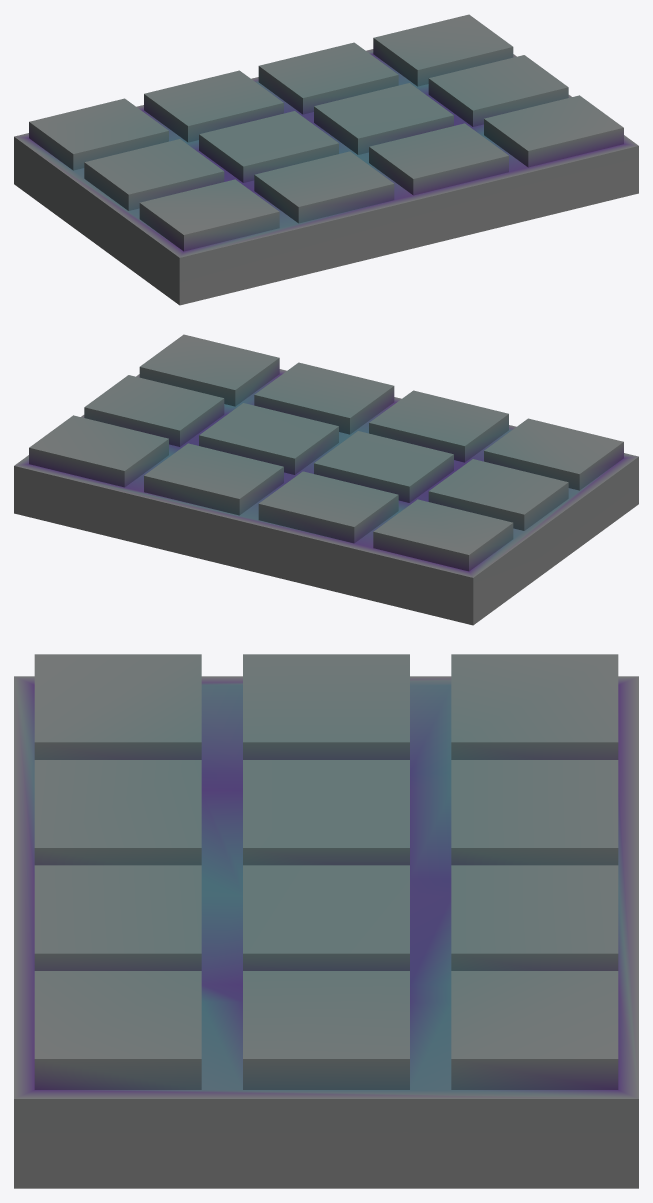
Rendered from simready-food_processed_chocolate_i01.glb.
3 views of the same model, one above another, from view 1: azimuth 30°, elevation 25°; view 2: azimuth 150°, elevation 25°; view 3: azimuth 270°, elevation 25° (orthographic). The views are drawn at different scales.
Visible parts, largest first — view 1: base; view 2: base; view 3: base.
Boxes of the visible parts, bbox=[...] form: base: bbox=[14, 14, 638, 305]; base: bbox=[14, 334, 638, 625]; base: bbox=[14, 654, 638, 1188].
Size of the model in its own units: 0.2745 by 0.0366 by 0.1716.
